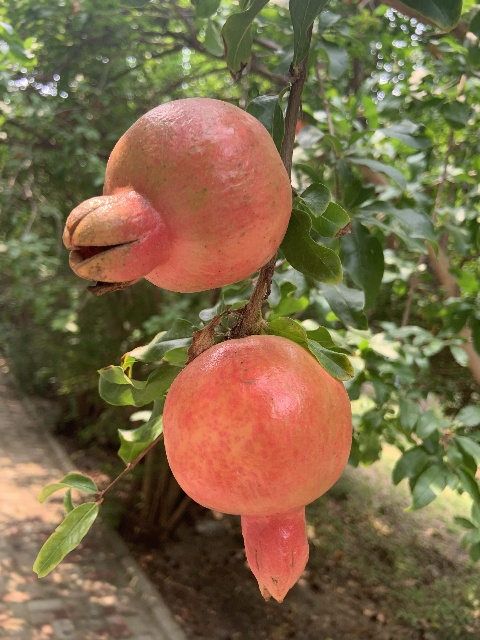ripe: (162, 334, 353, 600), (63, 97, 292, 295)
